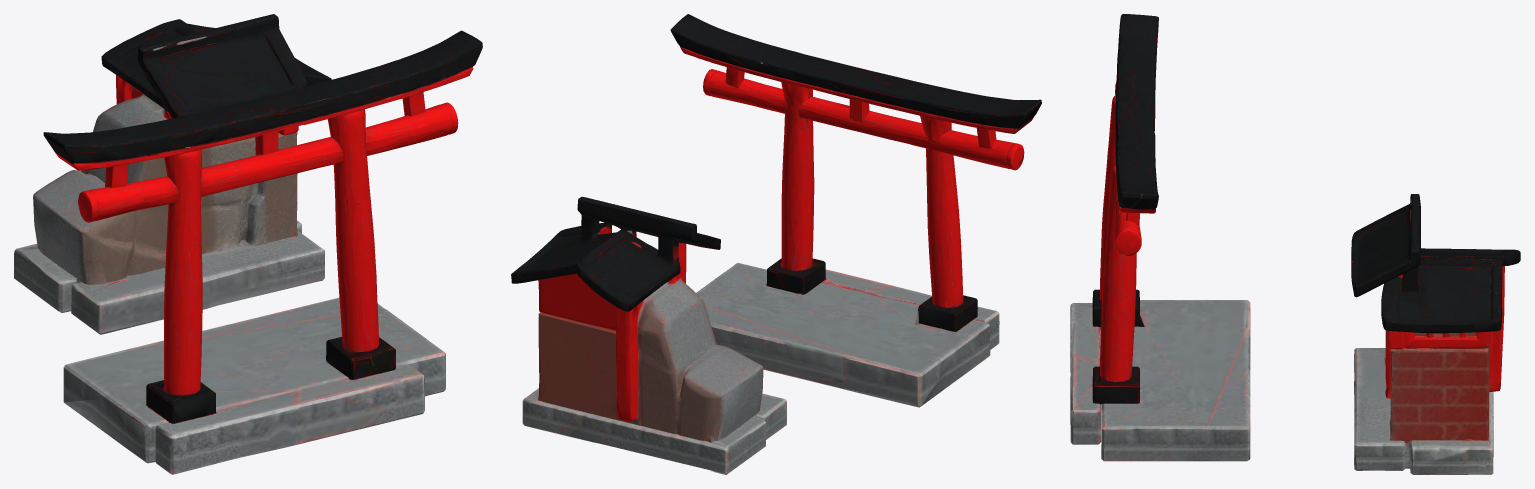
File: torii.glb
3 renders of one model, left to right at view 1: azimuth 30°, elevation 25°; view 2: azimuth 150°, elevation 25°; view 3: azimuth 270°, elevation 25°, orthographic. The views are drawn at different scales.
Size of the model in its own units: 1.8 by 1.35 by 1.9.
Materials: 1 (1 with a texture image).
